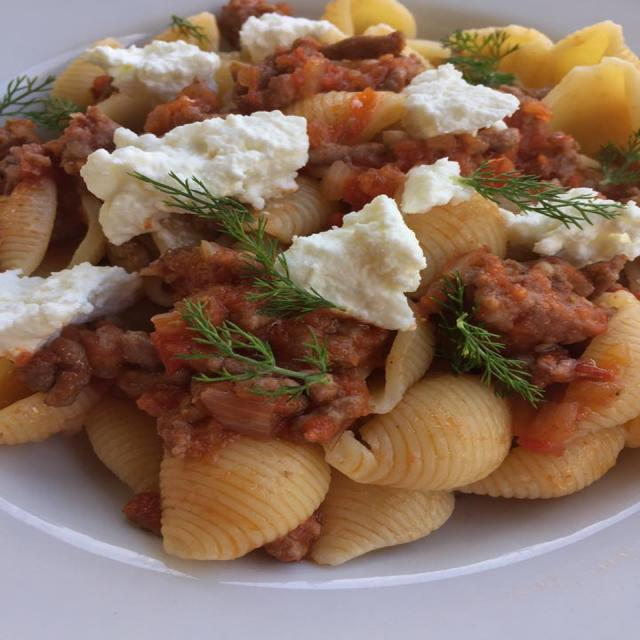Pasta al ragu: (20, 13, 638, 543)
